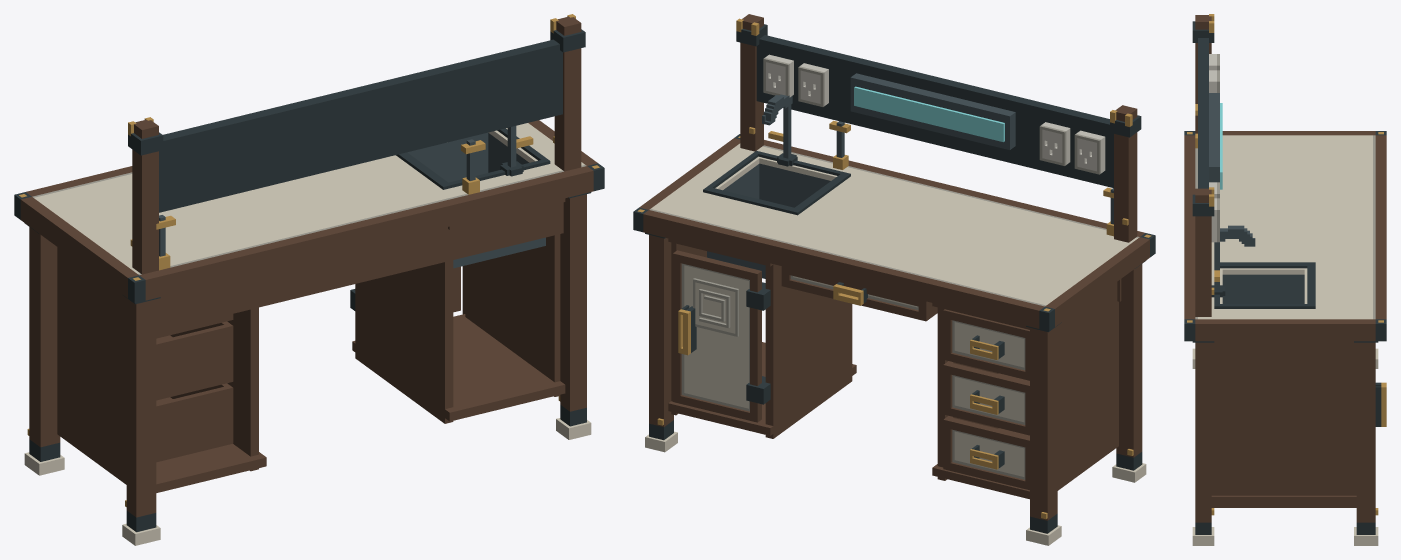
File: LIFE-112.glb
3 renders of one model, left to right at view 1: azimuth 30°, elevation 25°; view 2: azimuth 150°, elevation 25°; view 3: azimuth 270°, elevation 25°, orthographic. The views are drawn at different scales.
Parts seen in each view (by area): view 1: 实验台; view 2: 实验台; view 3: 实验台.
Part boxes in pixels (left/top/right/bottom): 实验台: left=14, top=14, right=604, bottom=545; 实验台: left=633, top=14, right=1155, bottom=545; 实验台: left=1184, top=14, right=1386, bottom=545.
Size of the model in its own units: 1.67 by 1.4 by 0.74.
8 materials, 8 textured.
